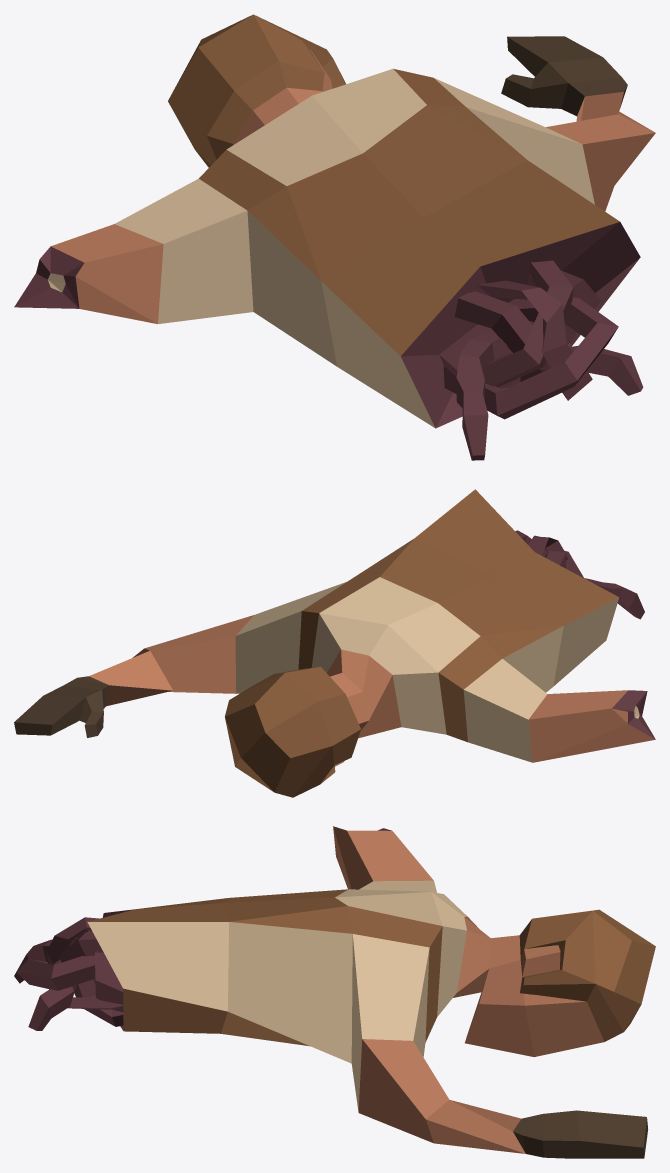
Rendered from apocalypse-man-construction-worker-dead-b.glb.
3 renders of one model, top to bottom at view 1: azimuth 30°, elevation 25°; view 2: azimuth 150°, elevation 25°; view 3: azimuth 270°, elevation 25°, orthographic. The views are drawn at different scales.
Parts seen in each view (by area): view 1: man-construction-worker-dead-b; view 2: man-construction-worker-dead-b; view 3: man-construction-worker-dead-b.
Part boxes in pixels (<box>): man-construction-worker-dead-b: <box>14,14,655,460</box>; man-construction-worker-dead-b: <box>14,489,655,797</box>; man-construction-worker-dead-b: <box>14,826,655,1158</box>.
Size of the model in its own units: 1.03 by 0.244 by 0.9911.
